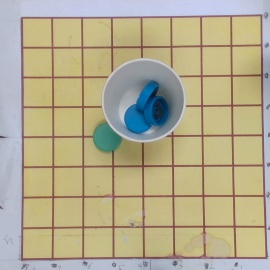cup_blue: (100, 59, 188, 143)
green: (92, 124, 124, 153)
